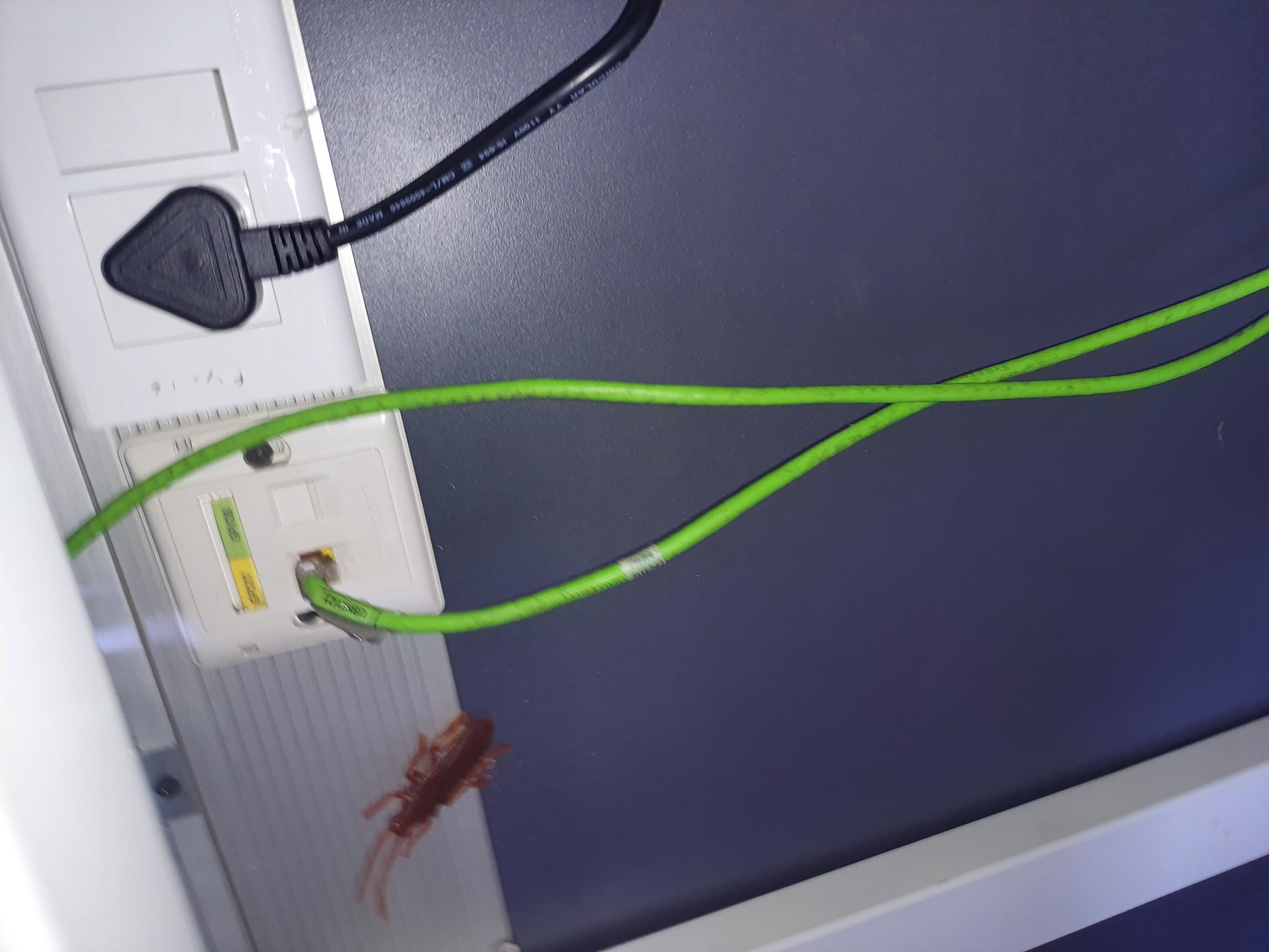cockroach: (26, 254, 346, 395)
